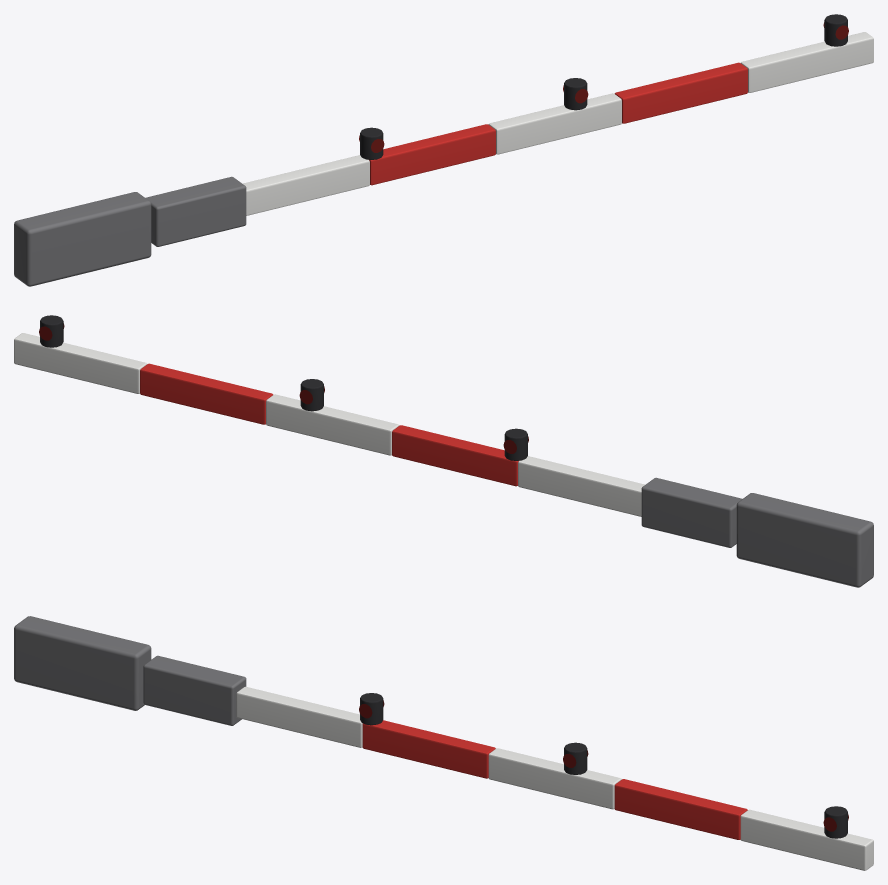
Rendered from lx_boom_3.glb.
3 views of the same model, one above another, from view 1: azimuth 30°, elevation 25°; view 2: azimuth 150°, elevation 25°; view 3: azimuth 330°, elevation 25° (orthographic).
Parts seen in each view (by area): view 1: SM_lx_boom_3; view 2: SM_lx_boom_3; view 3: SM_lx_boom_3.
Part boxes in pixels (x1=…): SM_lx_boom_3: x1=14, y1=14, x2=873, y2=286; SM_lx_boom_3: x1=14, y1=315, x2=873, y2=587; SM_lx_boom_3: x1=14, y1=616, x2=873, y2=870.
Size of the model in its own units: 3.75 by 0.275 by 0.12.
